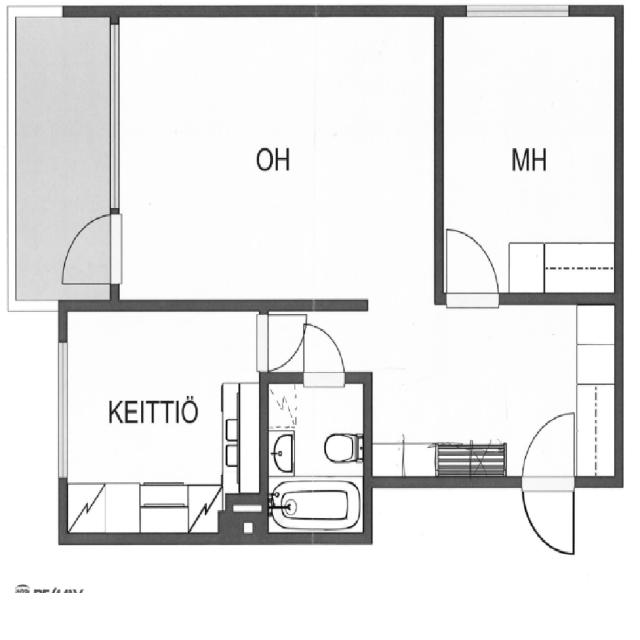door: (116, 11, 436, 304), (517, 404, 579, 556), (438, 222, 503, 312), (60, 206, 122, 287), (300, 320, 350, 390), (262, 312, 306, 378)
window: (104, 16, 129, 208), (460, 1, 572, 25), (54, 338, 71, 484)
zone: (439, 11, 623, 289), (65, 306, 262, 538), (366, 304, 618, 481), (262, 377, 367, 536)
